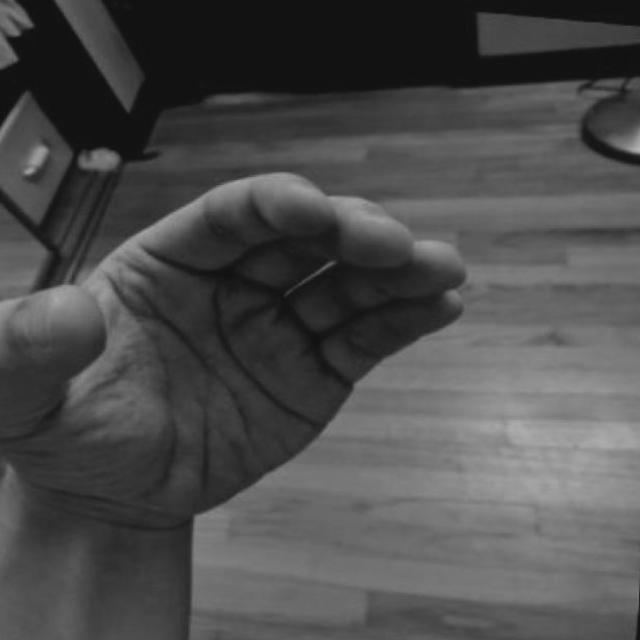C: (0, 156, 478, 550)
